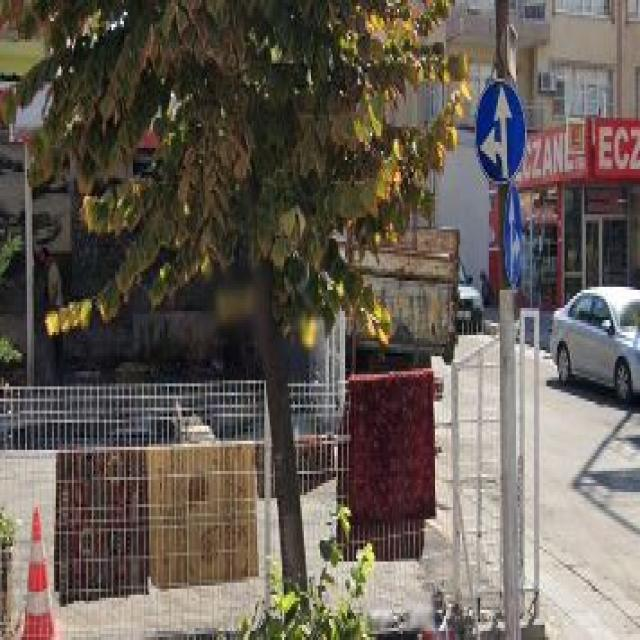ilerisag: (503, 187, 525, 290)
ilerisol: (476, 79, 525, 184)
